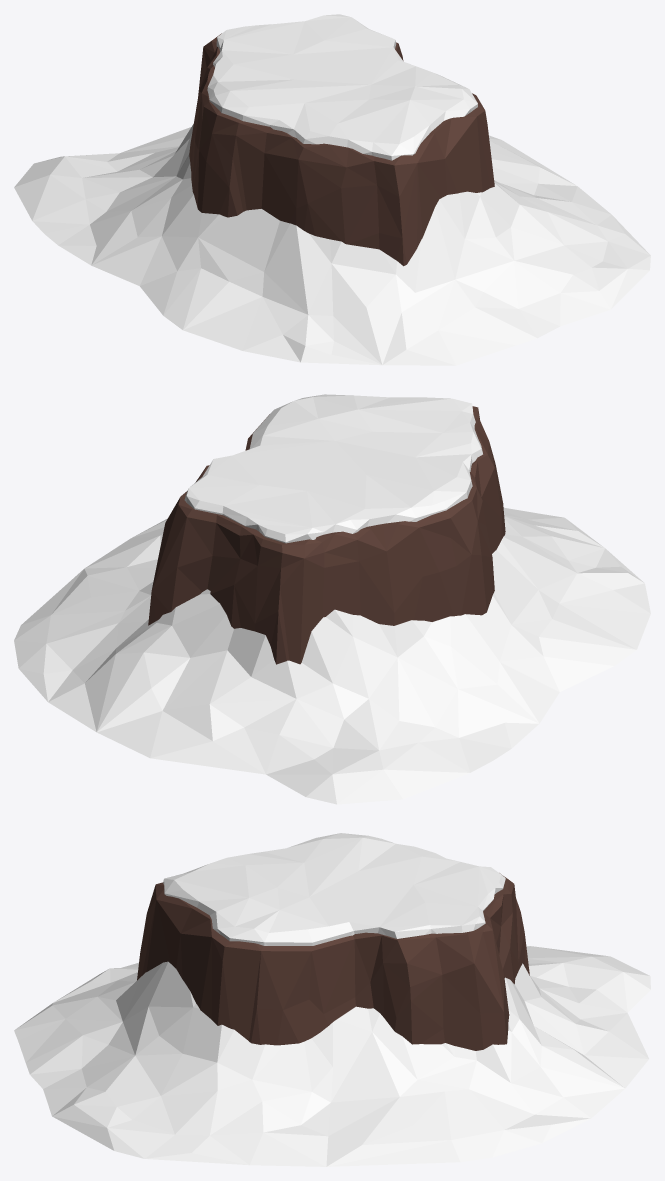
File: snow_crag_003.fbx
The picture shows the model from 3 angles, top to bottom: view 1: azimuth 30°, elevation 25°; view 2: azimuth 150°, elevation 25°; view 3: azimuth 270°, elevation 25°; orthographic projection. The views are drawn at different scales.
Parts seen in each view (by area): view 1: snow_crag_003; view 2: snow_crag_003; view 3: snow_crag_003.
Boxes of the visible parts, <box> form: snow_crag_003: <box>14,14,650,365</box>; snow_crag_003: <box>14,394,650,804</box>; snow_crag_003: <box>14,833,650,1166</box>.
Bounding box in the file's own units: 5281 × 6358 × 1839.
